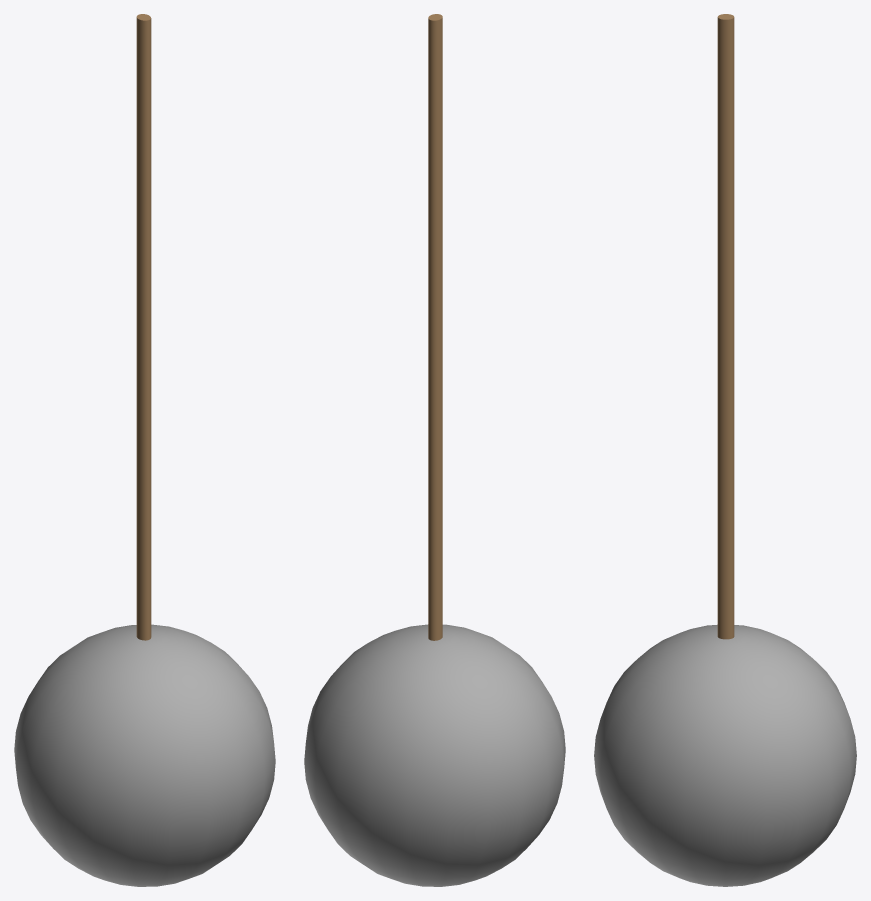
The model's file is Aquatic_Bubble_medium.fbx.
The picture shows the model from 3 angles, left to right: view 1: azimuth 30°, elevation 25°; view 2: azimuth 150°, elevation 25°; view 3: azimuth 270°, elevation 25°; orthographic projection.
Visible parts, largest first — view 1: pSphere1, pCylinder1; view 2: pSphere1, pCylinder1; view 3: pSphere1, pCylinder1.
Boxes of the visible parts, bbox=[...] form: pSphere1: bbox=[14, 624, 275, 886]; pCylinder1: bbox=[136, 14, 151, 640]; pSphere1: bbox=[304, 624, 565, 886]; pCylinder1: bbox=[428, 14, 442, 640]; pSphere1: bbox=[594, 624, 856, 886]; pCylinder1: bbox=[717, 14, 734, 639].
Size of the model in its own units: 3.19 by 11.47 by 3.19.
